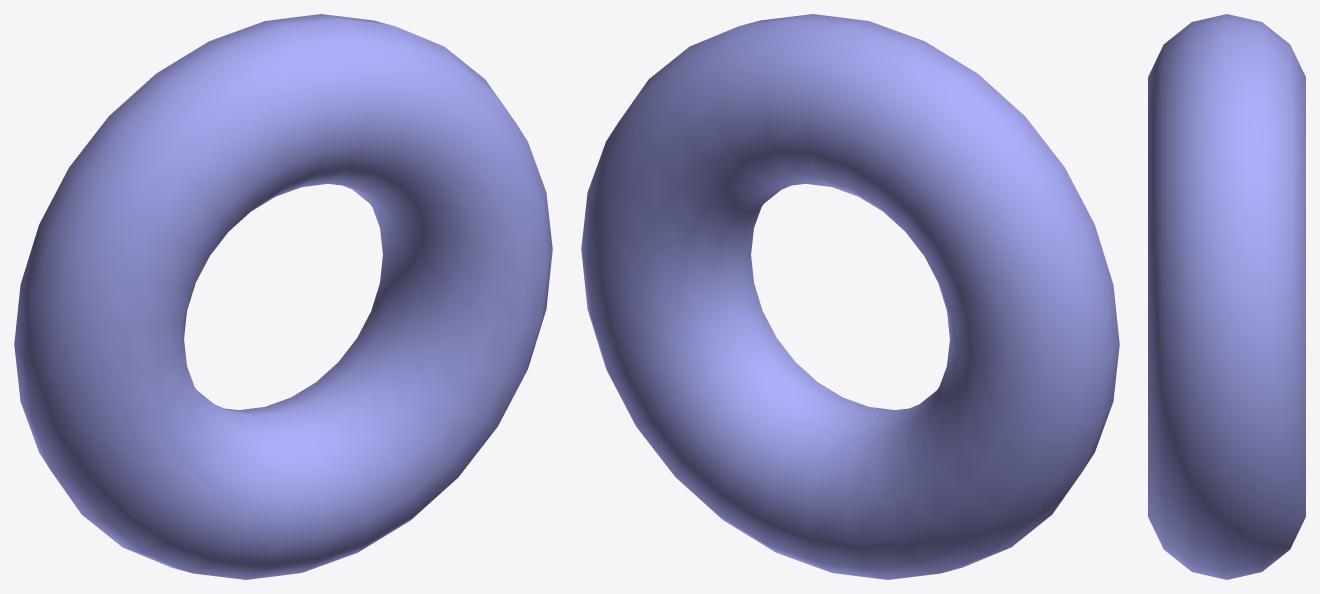
File: prop-note-01.glb
3 renders of one model, left to right at view 1: azimuth 30°, elevation 25°; view 2: azimuth 150°, elevation 25°; view 3: azimuth 270°, elevation 25°, orthographic. The views are drawn at different scales.
Bounding box in the file's own units: 2.24 × 2.24 × 0.624.
